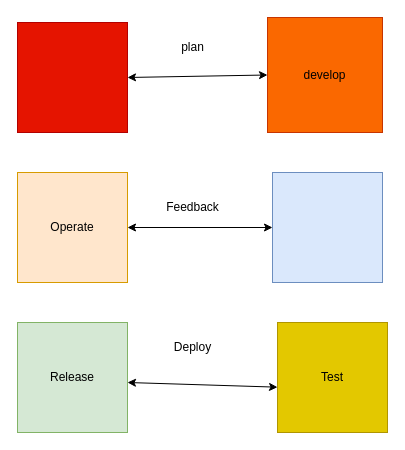
The diagram is 405 pixels wide and 450 high, and some of its shapes have lost their labels. The centre of each missing label's shape, as x and y in pixels:
"Build" belongs at (x=327, y=227).
"Monitor" belongs at (x=72, y=77).
